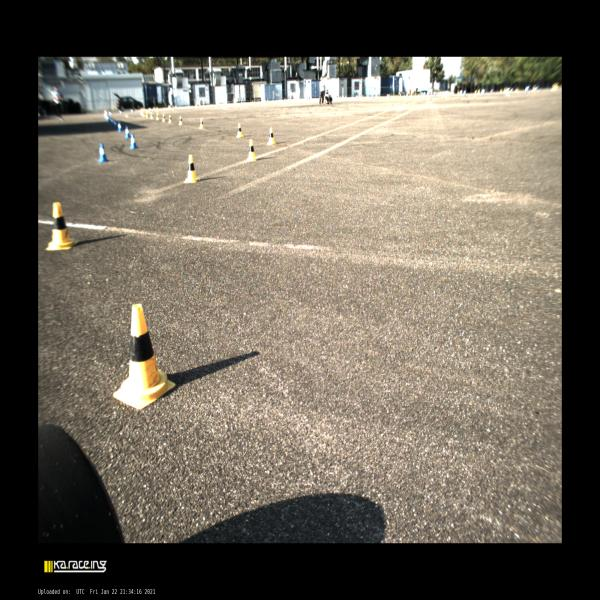blue_cone: (98, 142, 109, 162), (130, 134, 138, 150), (125, 126, 130, 138), (118, 122, 123, 132)
yellow_cone: (112, 303, 175, 410), (46, 203, 74, 250), (184, 154, 198, 184), (246, 139, 256, 162), (267, 128, 275, 146), (236, 124, 243, 138), (199, 118, 204, 129), (178, 116, 183, 125), (168, 115, 172, 123), (162, 114, 165, 122)
